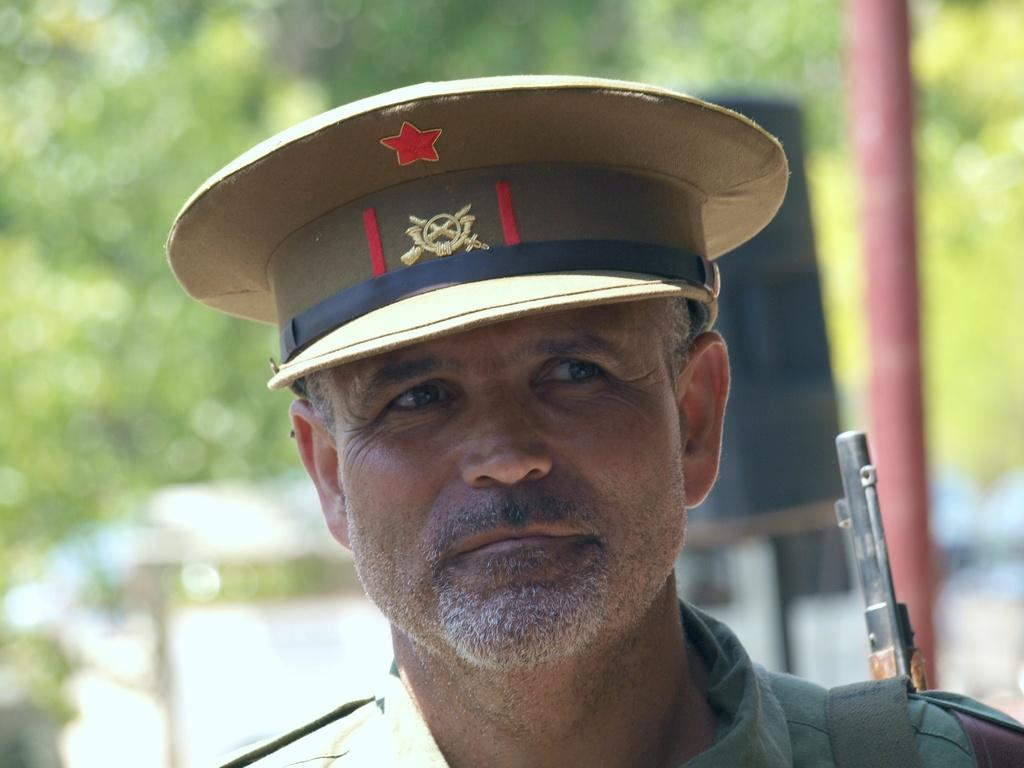Hat: (163, 73, 789, 389)
